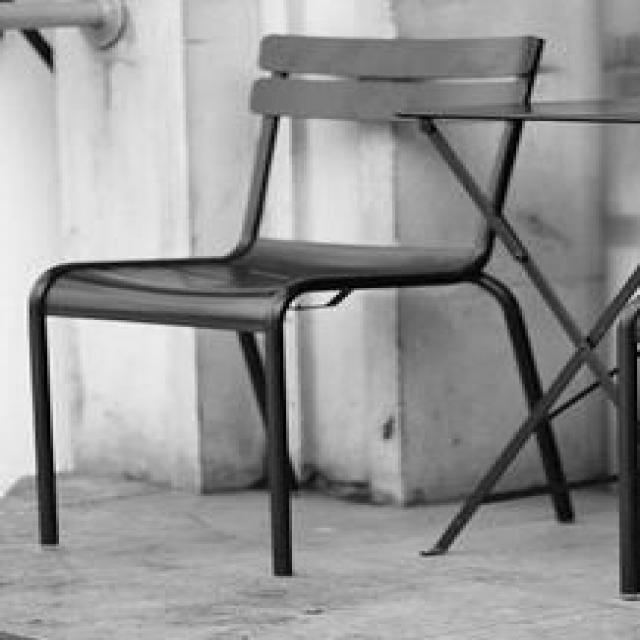chair: (26, 35, 548, 573)
